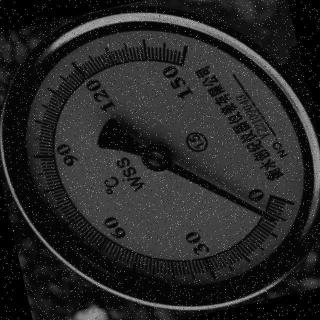gauge: (0, 5, 320, 320), (156, 38, 203, 86), (246, 179, 292, 222), (137, 141, 175, 177), (259, 207, 281, 227)
